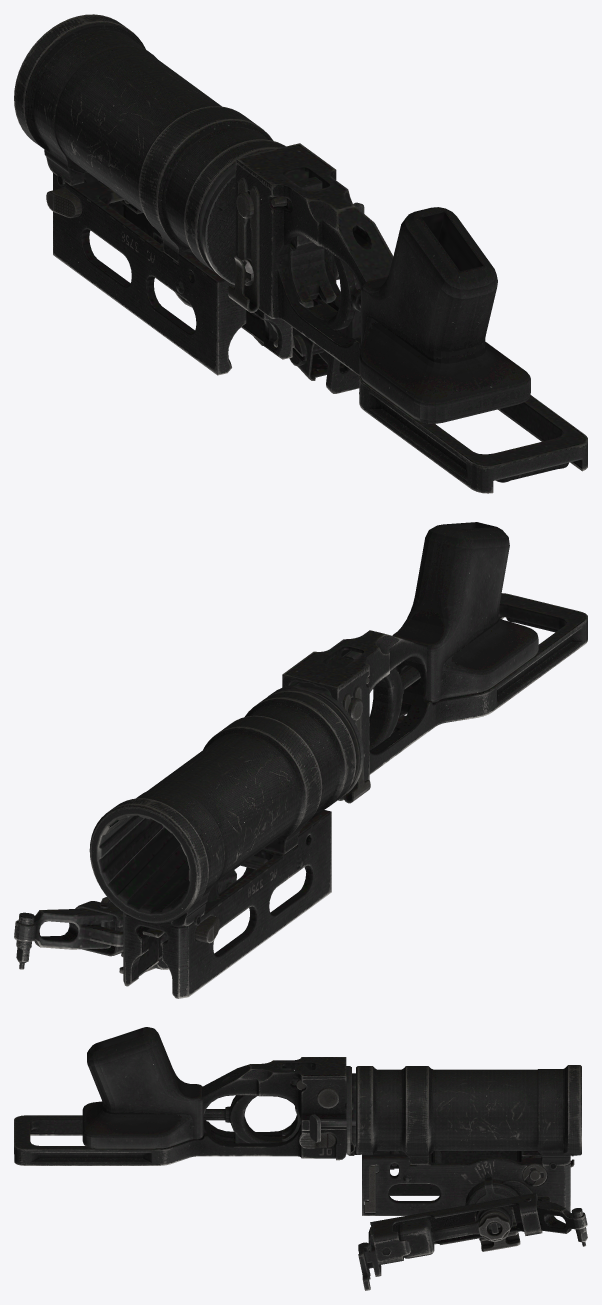
The picture shows the model from 3 angles, top to bottom: view 1: azimuth 30°, elevation 25°; view 2: azimuth 150°, elevation 25°; view 3: azimuth 270°, elevation 25°; orthographic projection. The views are drawn at different scales.
Parts seen in each view (by area): view 1: TW_62e7e7bbe6da9612f743f1e0_range200_PZ_Import; view 2: TW_62e7e7bbe6da9612f743f1e0_range200_PZ_Import; view 3: TW_62e7e7bbe6da9612f743f1e0_range200_PZ_Import.
Boxes of the visible parts, x1,y1,x2,y2 form: TW_62e7e7bbe6da9612f743f1e0_range200_PZ_Import: [14, 14, 587, 493]; TW_62e7e7bbe6da9612f743f1e0_range200_PZ_Import: [14, 522, 587, 998]; TW_62e7e7bbe6da9612f743f1e0_range200_PZ_Import: [14, 1027, 587, 1290].
Size of the model in its own units: 0.0529 by 0.1869 by 0.0761.
1 material, 1 textured.
